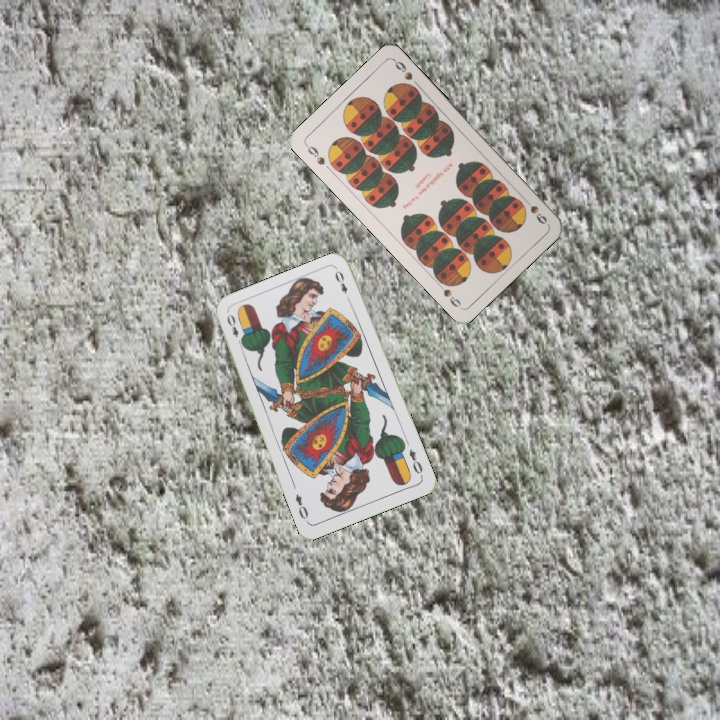EO: (223, 310, 246, 349), (405, 445, 425, 480)
S9: (519, 194, 550, 227), (301, 140, 328, 168)
